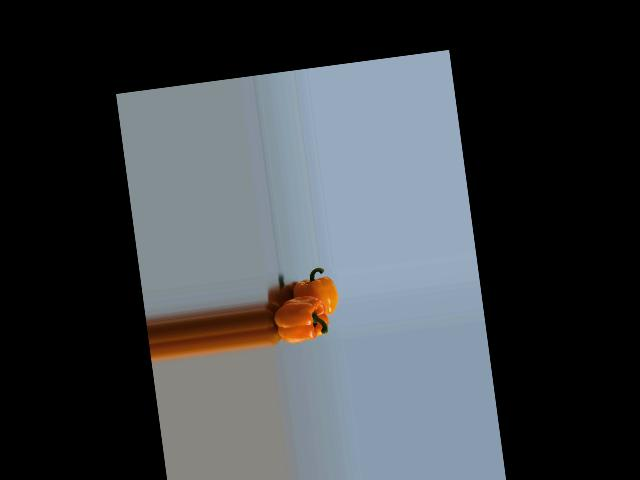bell_pepper: (282, 266, 340, 321)
